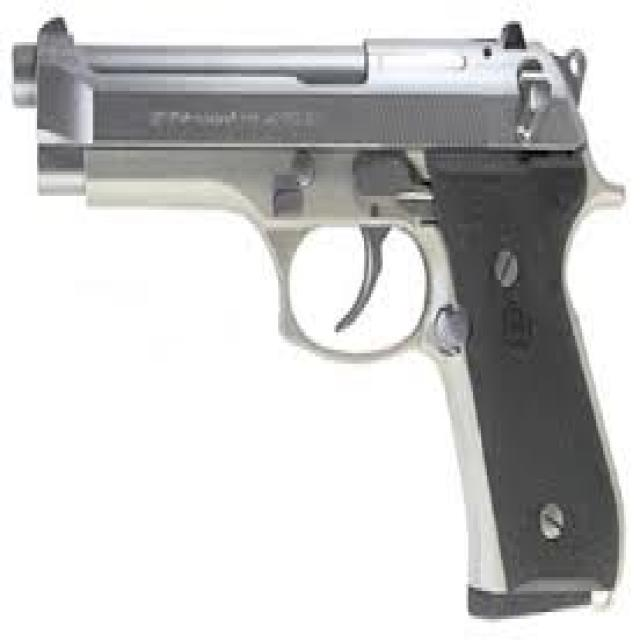pistol: (4, 14, 630, 628)
